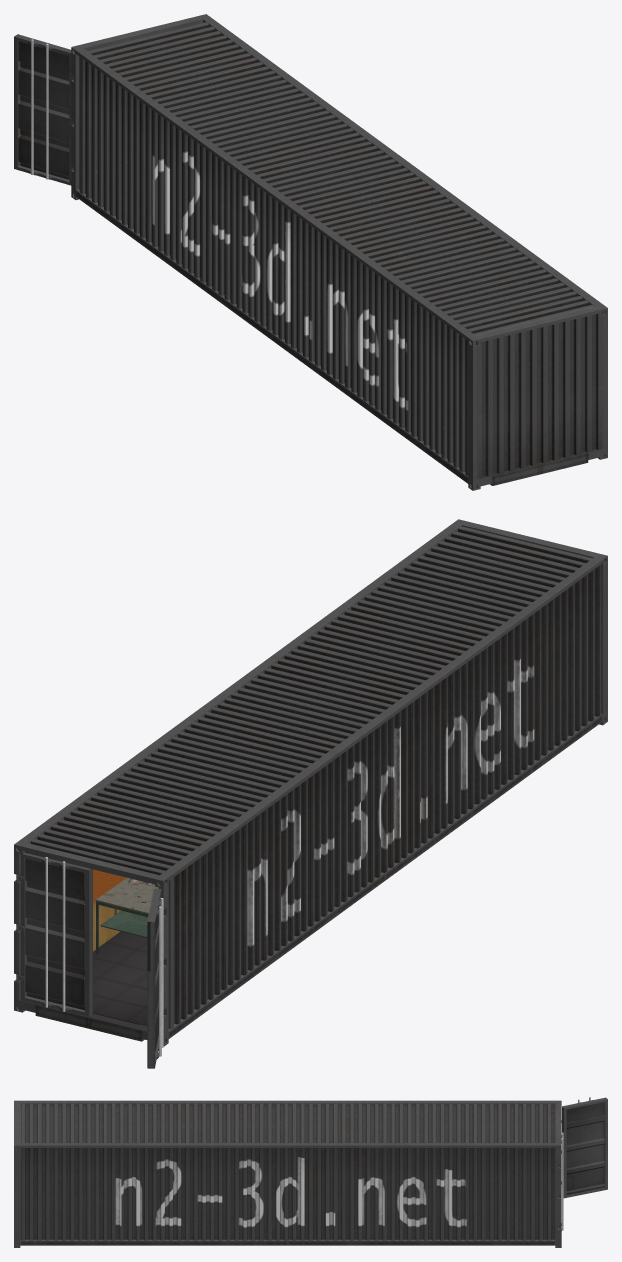
3 views of the same model, one above another, from view 1: azimuth 30°, elevation 25°; view 2: azimuth 150°, elevation 25°; view 3: azimuth 270°, elevation 25° (orthographic). The views are drawn at different scales.
Visible parts, largest first — view 1: container_main_container_0, container_door_02_container_0; view 2: container_main_container_0, container_door_01_container_0, container_door_02_container_0, Cube.001_Cube_table_0; view 3: container_main_container_0, container_door_02_container_0, container_door_01_container_0.
Boxes of the visible parts, x1,y1,x2,y2 form: container_main_container_0: [71, 14, 607, 490]; container_door_02_container_0: [14, 34, 73, 185]; container_main_container_0: [14, 519, 607, 1046]; container_door_01_container_0: [16, 853, 92, 1016]; container_door_02_container_0: [147, 888, 163, 1068]; Cube.001_Cube_table_0: [95, 877, 158, 954]; container_main_container_0: [14, 1100, 561, 1247]; container_door_02_container_0: [561, 1097, 607, 1198]; container_door_01_container_0: [558, 1132, 563, 1230].
Bounding box in the file's own units: 3.24 × 2.9 × 15.28.
24 materials, 21 textured.
